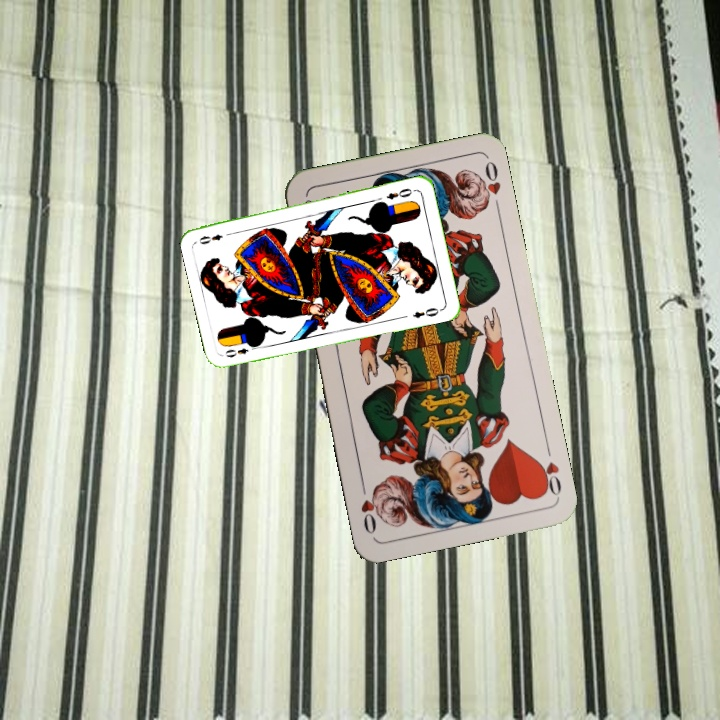EO: (221, 341, 260, 360), (382, 184, 418, 202)
HO: (533, 440, 564, 499)
